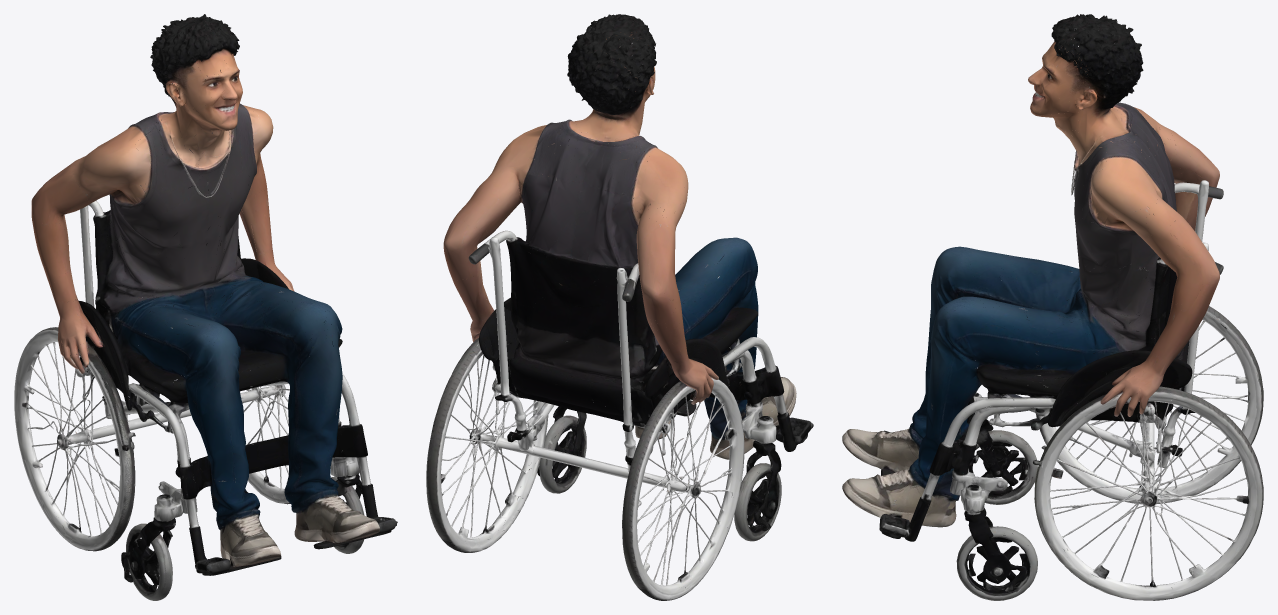
Rendered from person-wheelchair-joy.glb.
3 renders of one model, left to right at view 1: azimuth 30°, elevation 25°; view 2: azimuth 150°, elevation 25°; view 3: azimuth 270°, elevation 25°, orthographic. The views are drawn at different scales.
Parts seen in each view (by area): view 1: Object_5, Object_12, Object_8, Object_7, Object_6, Object_9, Object_11, Object_10; view 2: Object_10, Object_9, Object_8, Object_7, Object_6, Object_11, Object_12, Object_5; view 3: Object_7, Object_10, Object_5, Object_6, Object_8, Object_12, Object_9, Object_11.
Boxes of the visible parts, x1,y1,x2,y2 form: Object_5: (155, 292, 397, 591); Object_12: (75, 14, 290, 537); Object_8: (37, 18, 290, 544); Object_7: (104, 19, 346, 592); Object_6: (124, 290, 364, 600); Object_9: (31, 112, 275, 535); Object_11: (60, 19, 294, 551); Object_10: (14, 139, 284, 543); Object_10: (426, 163, 700, 600); Object_9: (450, 119, 712, 585); Object_8: (469, 14, 734, 600); Object_7: (523, 14, 769, 541); Object_6: (537, 237, 781, 541); Object_11: (478, 34, 729, 589); Object_12: (498, 14, 729, 549); Object_5: (574, 238, 813, 505); Object_7: (933, 14, 1102, 600); Object_10: (1111, 141, 1263, 600); Object_5: (842, 246, 1026, 580); Object_6: (922, 246, 1039, 598); Object_8: (1038, 14, 1208, 600); Object_12: (1027, 14, 1125, 578); Object_9: (1105, 104, 1224, 600); Object_11: (1047, 18, 1147, 581).
Size of the model in its own units: 0.8788 by 1.9 by 1.36.
Materials: 1 (1 with a texture image).
